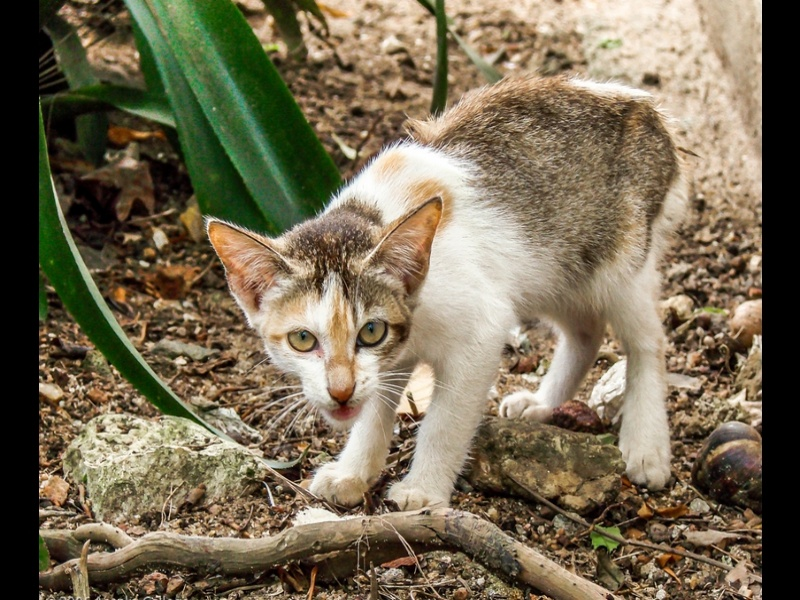cat: (205, 85, 690, 523)
